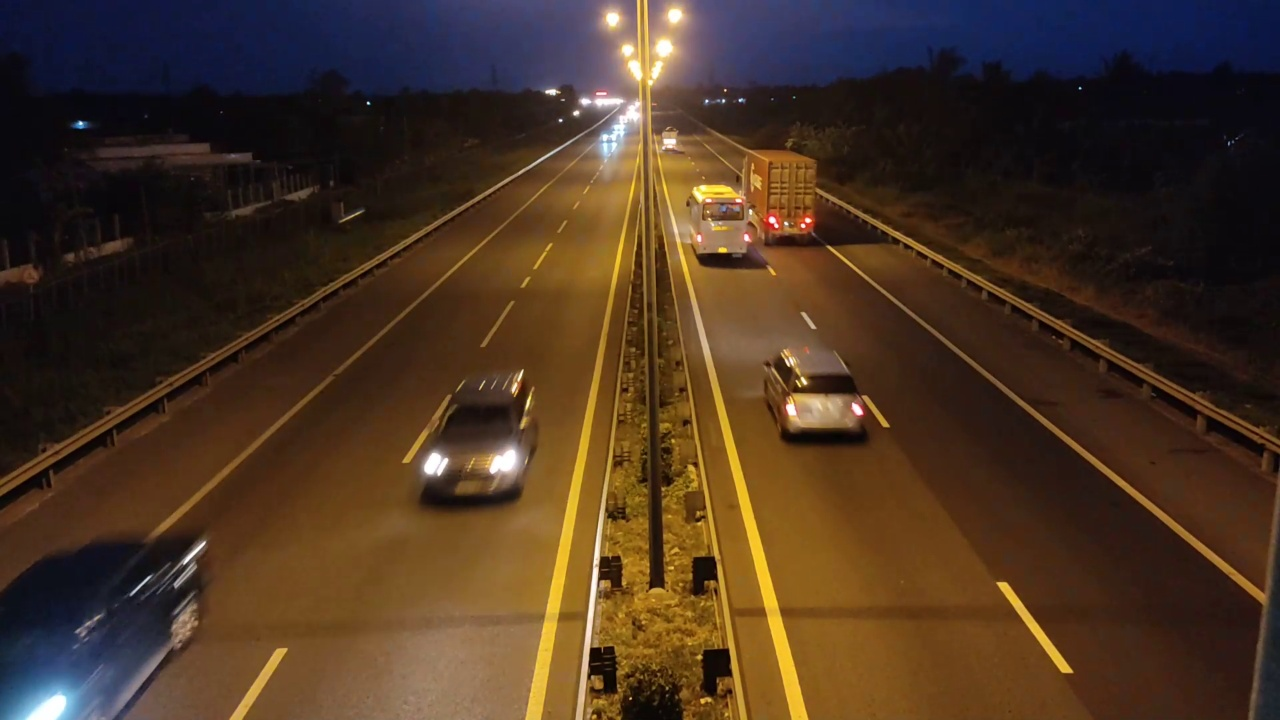bus: (685, 183, 751, 260)
car: (414, 367, 539, 505), (762, 343, 871, 442)
truck: (741, 147, 819, 245)
